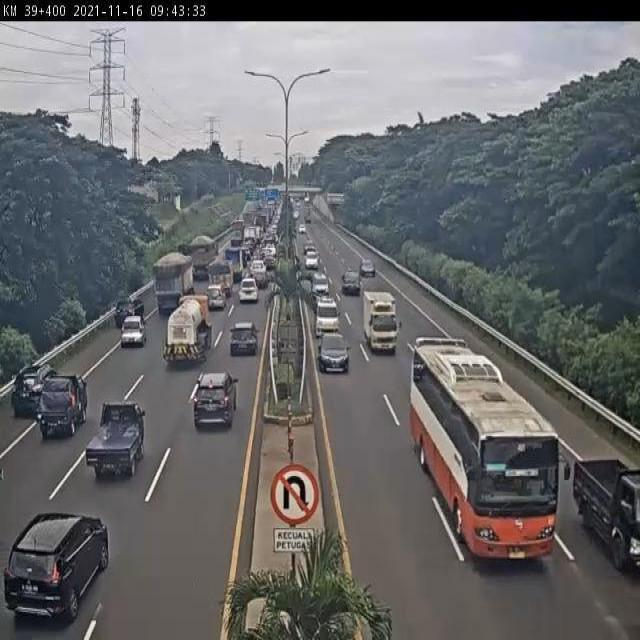car: (5, 511, 109, 621), (573, 459, 640, 568), (84, 397, 148, 480), (37, 374, 89, 442), (191, 368, 239, 435), (12, 363, 54, 420), (316, 335, 349, 375), (230, 320, 260, 355), (120, 316, 149, 351), (114, 299, 147, 329), (315, 296, 338, 336), (237, 279, 259, 307), (206, 287, 227, 313)
truck: (409, 336, 571, 563), (163, 292, 216, 369), (154, 251, 197, 320), (361, 289, 400, 356)
